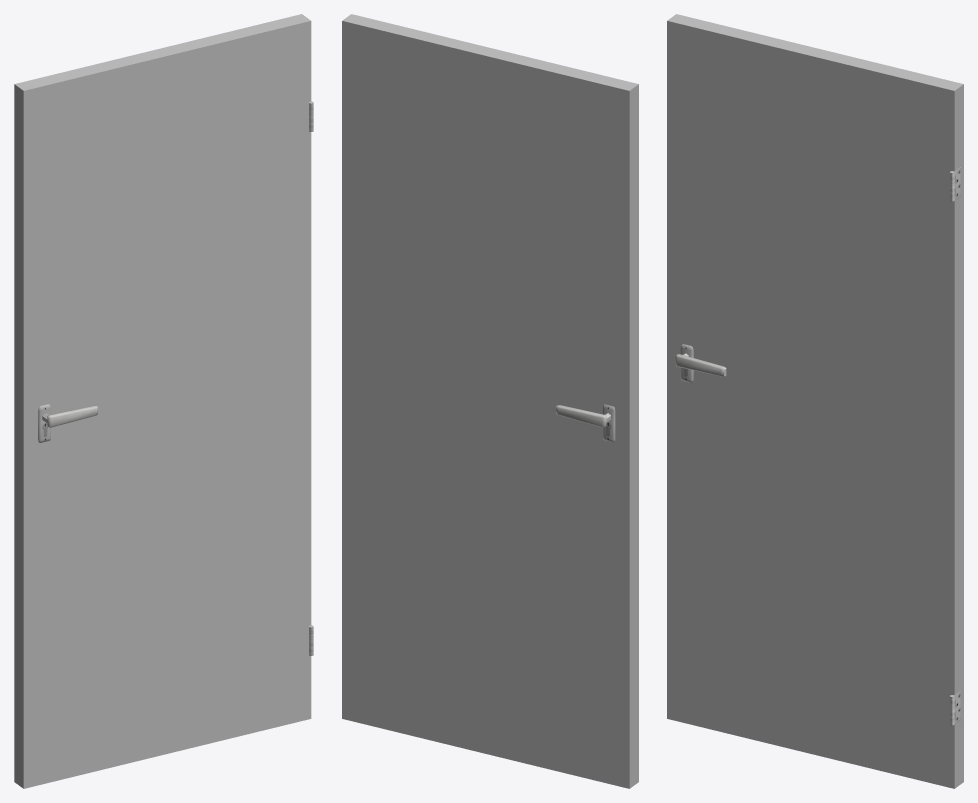
Rendered from Door1.FBX.
3 renders of one model, left to right at view 1: azimuth 30°, elevation 25°; view 2: azimuth 150°, elevation 25°; view 3: azimuth 330°, elevation 25°, orthographic.
Parts seen in each view (by area): view 1: Door1; view 2: Door1; view 3: Door1.
Part boxes in pixels (box(x1,y1,x2,y2)): Door1: box(14, 14, 313, 788); Door1: box(342, 14, 638, 788); Door1: box(667, 14, 963, 788).
Size of the model in its own units: 841 by 1943 by 134.
